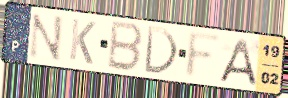A: (216, 37, 259, 87)
B: (105, 19, 146, 74)
D: (142, 24, 180, 77)
F: (182, 30, 224, 81)
K: (67, 16, 98, 67)
N: (27, 12, 65, 63)
